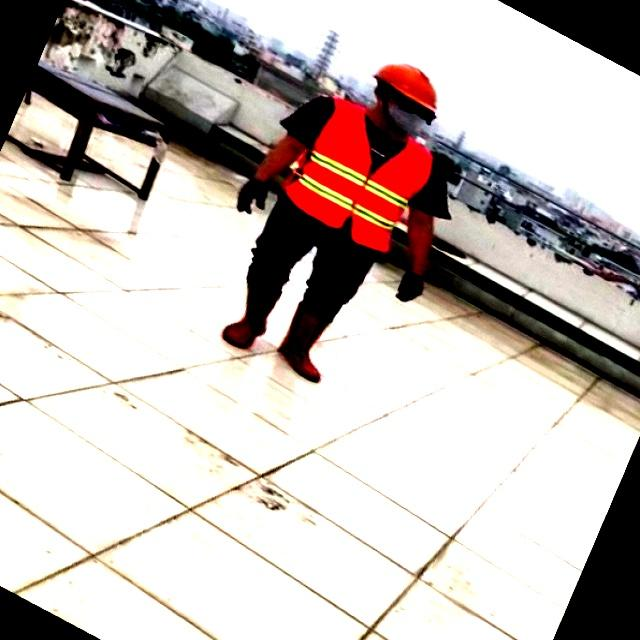Capacete: (374, 64, 436, 112)
Colete: (284, 98, 431, 251)
